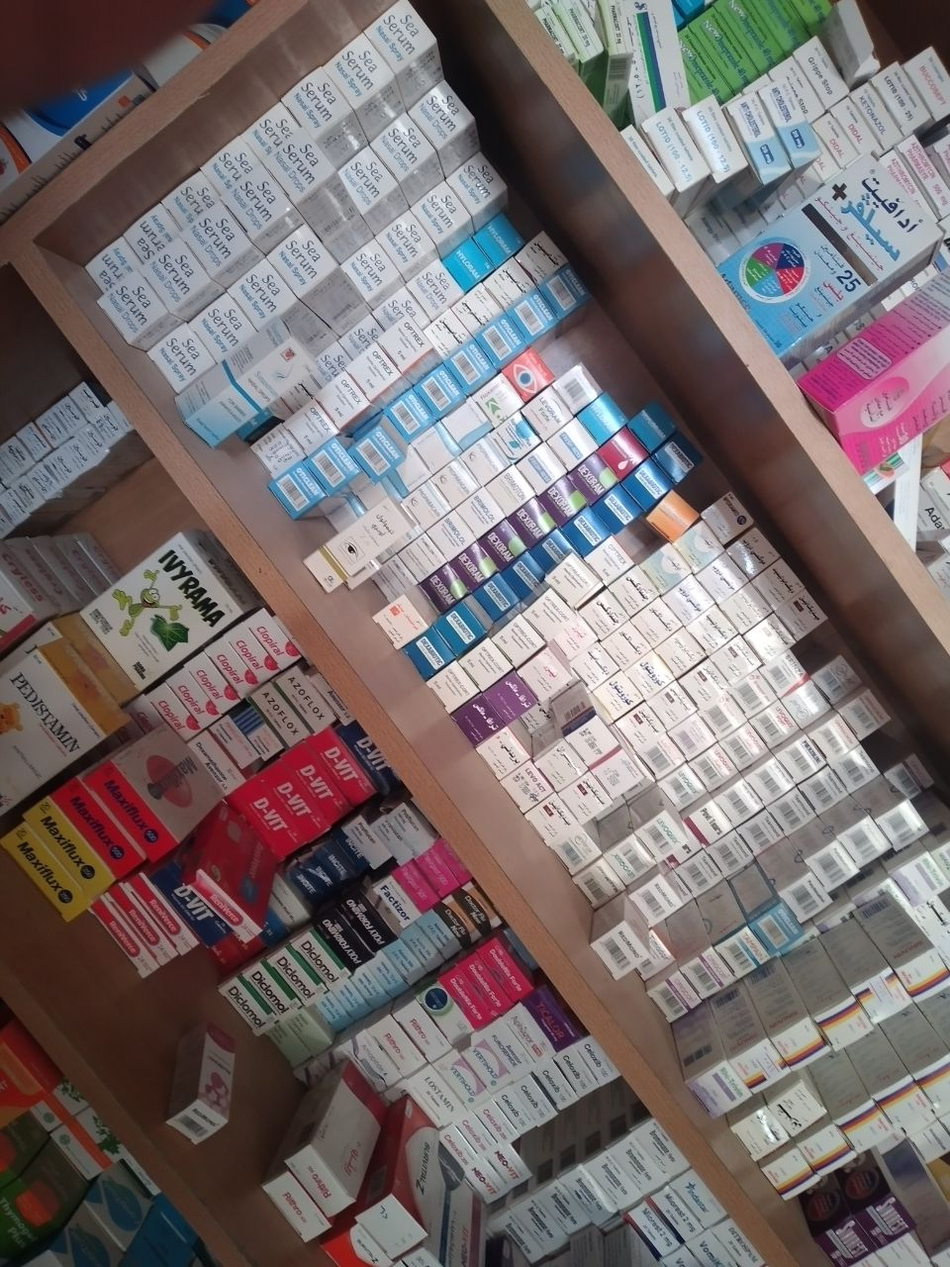Medicine: (723, 161, 939, 360), (809, 273, 950, 427), (0, 652, 111, 815), (178, 314, 319, 438), (95, 741, 223, 865), (296, 1055, 378, 1209), (187, 810, 280, 943), (366, 1089, 438, 1242), (307, 501, 413, 595), (170, 1014, 238, 1149), (785, 940, 874, 1040), (276, 231, 372, 323), (825, 922, 913, 1018), (711, 982, 786, 1094), (230, 260, 335, 340), (858, 889, 950, 979), (751, 970, 827, 1065), (282, 67, 367, 150), (678, 1015, 749, 1113), (365, 2, 450, 79), (332, 41, 401, 127), (642, 106, 710, 192), (686, 91, 748, 183), (839, 1051, 888, 1153), (684, 95, 742, 180), (143, 239, 216, 301), (268, 139, 343, 197), (231, 168, 302, 229), (186, 204, 259, 262), (872, 60, 929, 133), (350, 415, 416, 478), (104, 280, 171, 341), (722, 86, 776, 155), (598, 7, 630, 117), (854, 79, 907, 144), (791, 36, 846, 98), (156, 325, 212, 385), (771, 1072, 822, 1136), (726, 1108, 791, 1158), (553, 1, 605, 58)
